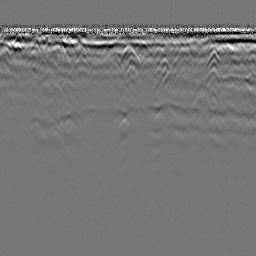cavity: (118, 43, 141, 67)
